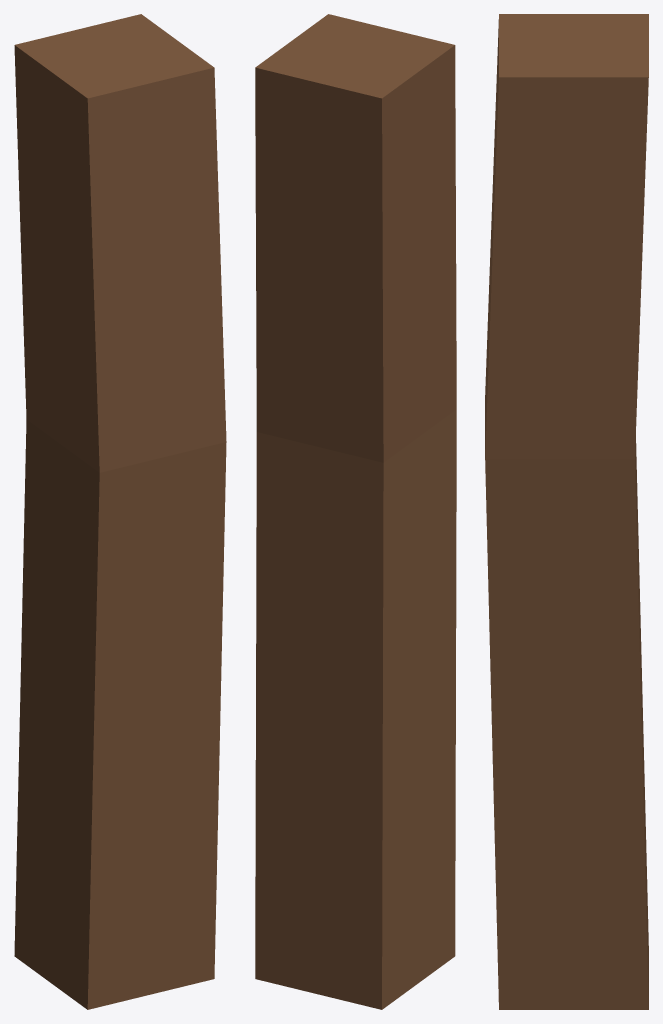
File: Wood_Fence_Pillar.002.fbx
3 views of the same model, side by side, from view 1: azimuth 30°, elevation 25°; view 2: azimuth 150°, elevation 25°; view 3: azimuth 270°, elevation 25° (orthographic). The views are drawn at different scales.
Parts seen in each view (by area): view 1: Wood_Fence_Pillar.002; view 2: Wood_Fence_Pillar.002; view 3: Wood_Fence_Pillar.002.
Boxes of the visible parts, bbox=[...] form: Wood_Fence_Pillar.002: bbox=[14, 14, 226, 1009]; Wood_Fence_Pillar.002: bbox=[255, 14, 456, 1009]; Wood_Fence_Pillar.002: bbox=[485, 14, 648, 1009].
Bounding box in the file's own units: 43.03 × 284 × 45.16.
